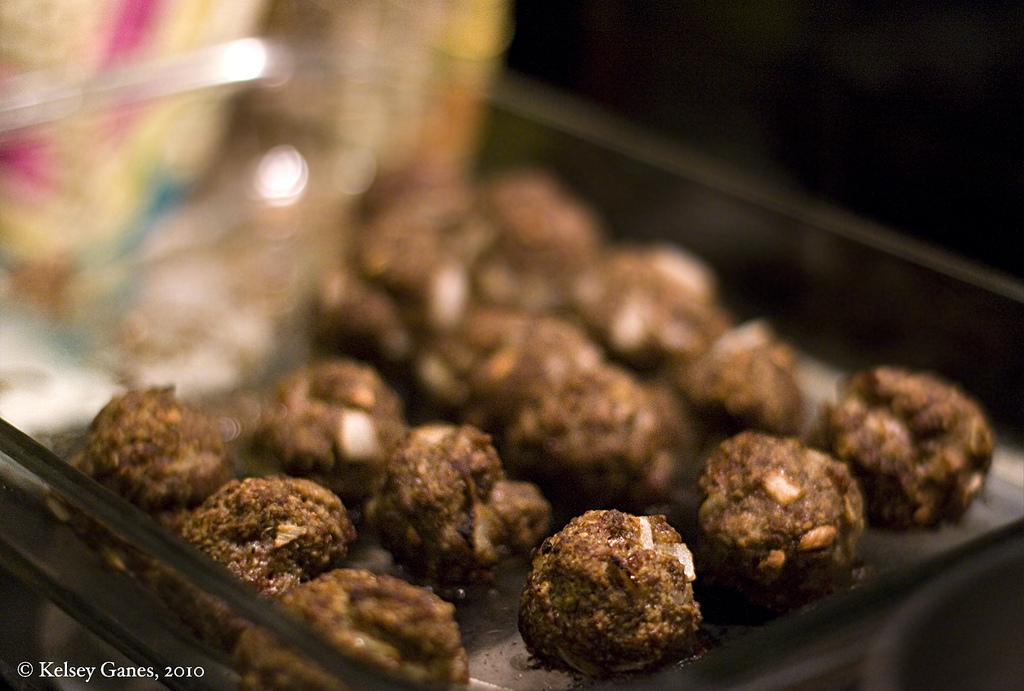meatballs: (356, 419, 568, 598), (819, 355, 1019, 540), (689, 430, 870, 612), (523, 508, 707, 678), (171, 461, 363, 613)
